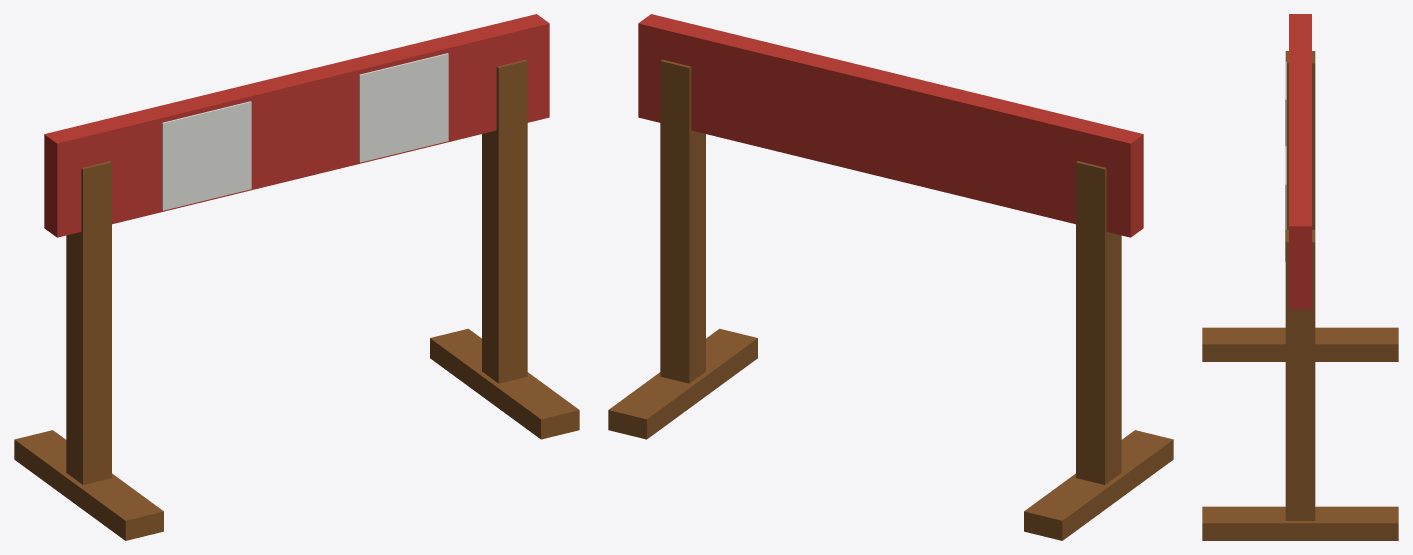
File: barrier_01.glb
3 renders of one model, left to right at view 1: azimuth 30°, elevation 25°; view 2: azimuth 150°, elevation 25°; view 3: azimuth 270°, elevation 25°, orthographic. The views are drawn at different scales.
Visible parts, largest first — view 1: barrier_01; view 2: barrier_01; view 3: barrier_01.
Boxes of the visible parts, x1=… form: barrier_01: x1=14, y1=14, x2=579, y2=540; barrier_01: x1=608, y1=14, x2=1173, y2=540; barrier_01: x1=1202, y1=14, x2=1398, y2=540.
Size of the model in its own units: 1.53 by 1.09 by 0.6.
